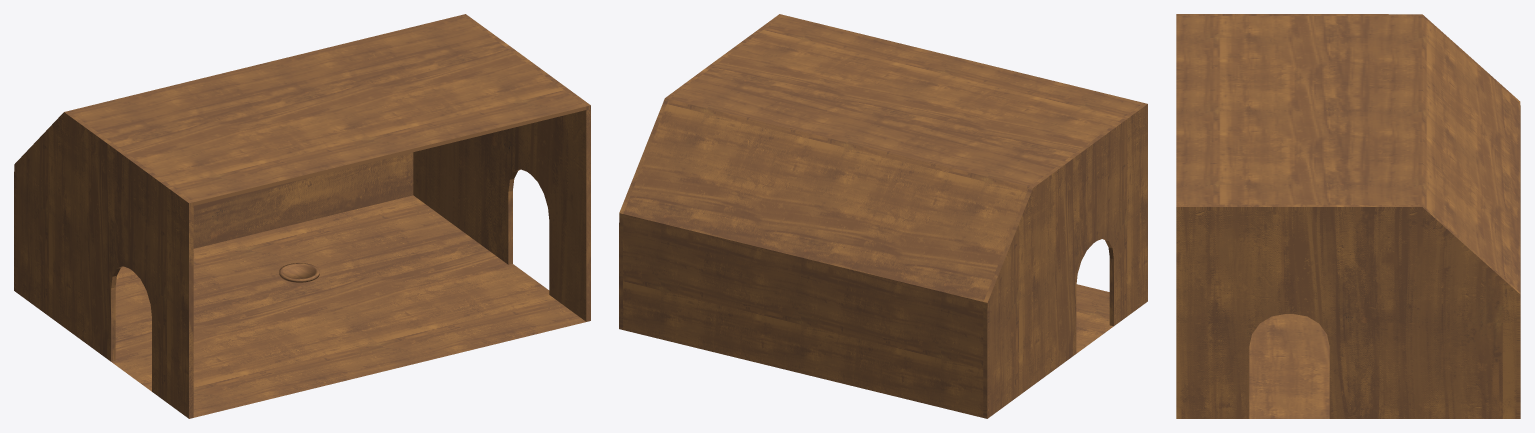
File: CofeeShop_Walls_Extern.glb
The picture shows the model from 3 angles, left to right: view 1: azimuth 30°, elevation 25°; view 2: azimuth 150°, elevation 25°; view 3: azimuth 270°, elevation 25°; orthographic projection. The views are drawn at different scales.
Parts seen in each view (by area): view 1: TeaShop_Walls_Extern; view 2: TeaShop_Walls_Extern; view 3: TeaShop_Walls_Extern.
Boxes of the visible parts, x1,y1,x2,y2 form: TeaShop_Walls_Extern: (14, 14, 590, 418); TeaShop_Walls_Extern: (619, 14, 1147, 418); TeaShop_Walls_Extern: (1176, 14, 1520, 418).
Size of the model in its own units: 4.08 by 2.09 by 3.08.
1 material, 1 textured.
